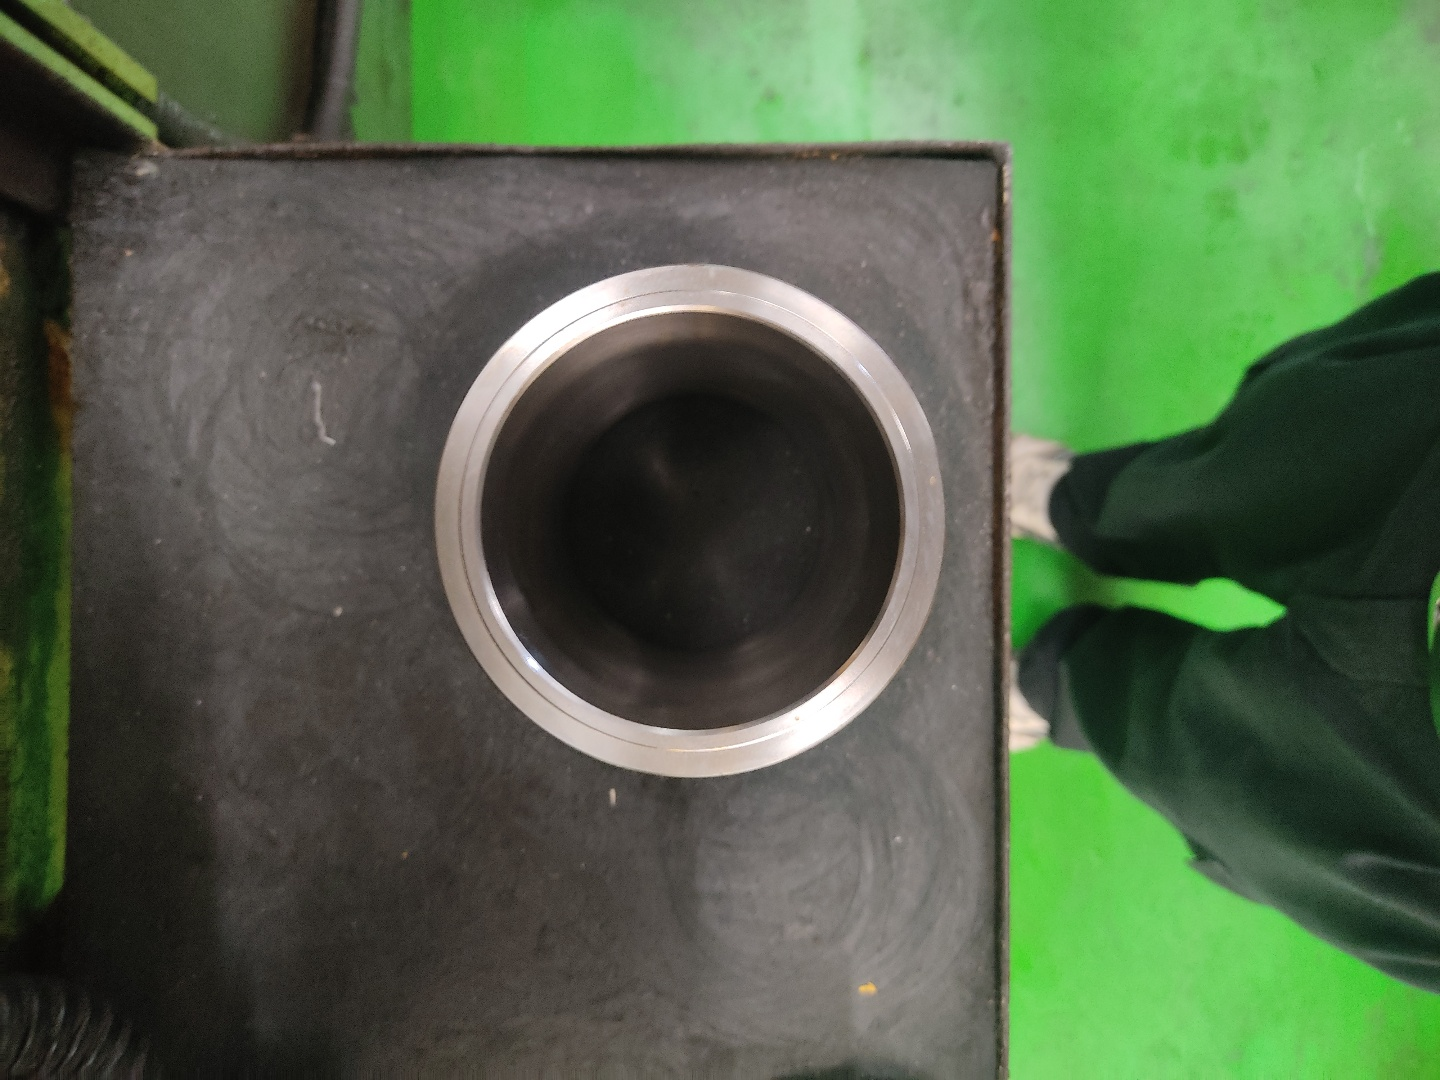cylinder: (429, 258, 952, 786)
